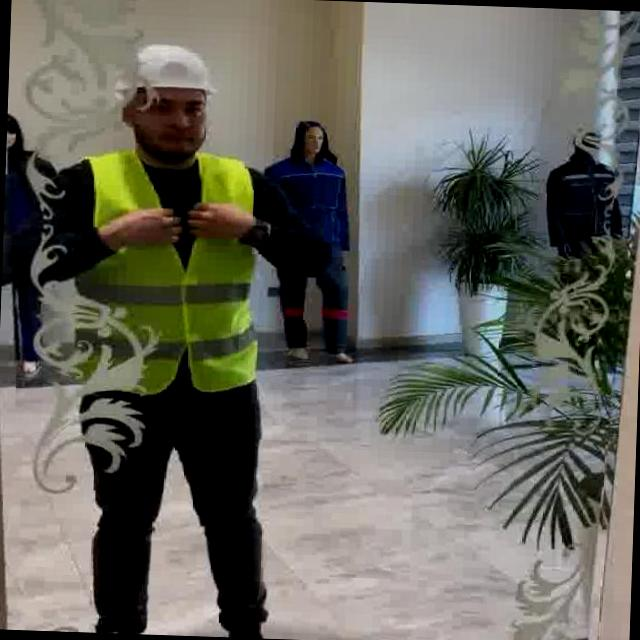helmet: (113, 41, 214, 98)
no-gloves: (188, 183, 260, 262), (101, 192, 186, 258)
vest: (72, 142, 268, 396)
